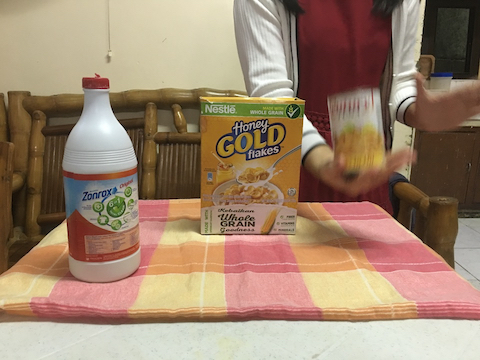bottle: (54, 76, 149, 291)
box: (197, 95, 309, 240)
can: (326, 84, 388, 171)
